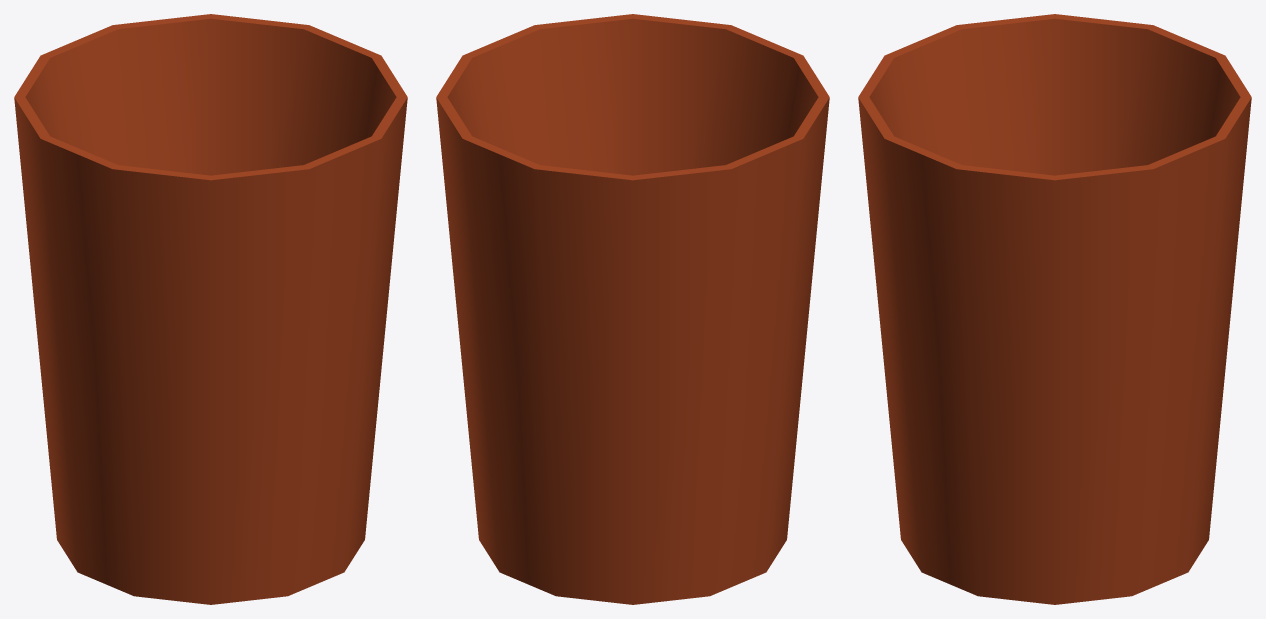
File: Vaso1_FBX.fbx
The picture shows the model from 3 angles, left to right: view 1: azimuth 30°, elevation 25°; view 2: azimuth 150°, elevation 25°; view 3: azimuth 270°, elevation 25°; orthographic projection.
Visible parts, largest first — view 1: pCylinder5; view 2: pCylinder5; view 3: pCylinder5.
Boxes of the visible parts, x1,y1,x2,y2 form: pCylinder5: (14,14,407,604); pCylinder5: (436,14,829,604); pCylinder5: (858,14,1251,604).
Size of the model in its own units: 0.6668 by 0.8276 by 0.6668.
